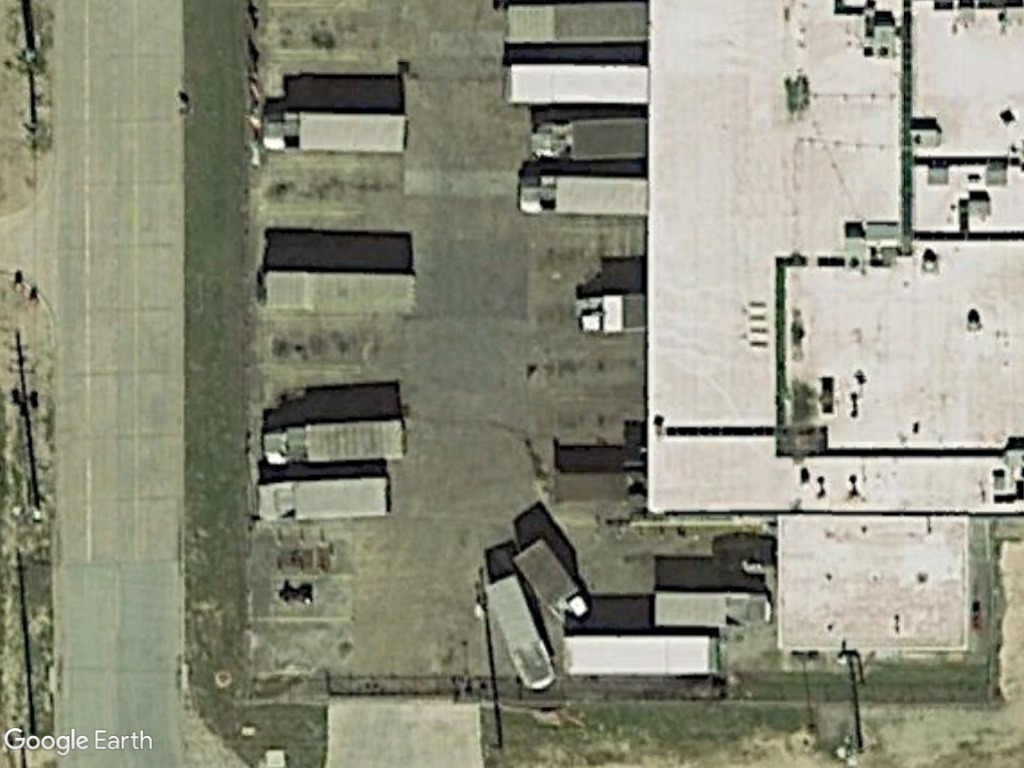truck: (261, 414, 412, 471), (260, 106, 413, 158), (257, 473, 396, 527), (518, 171, 650, 222)
